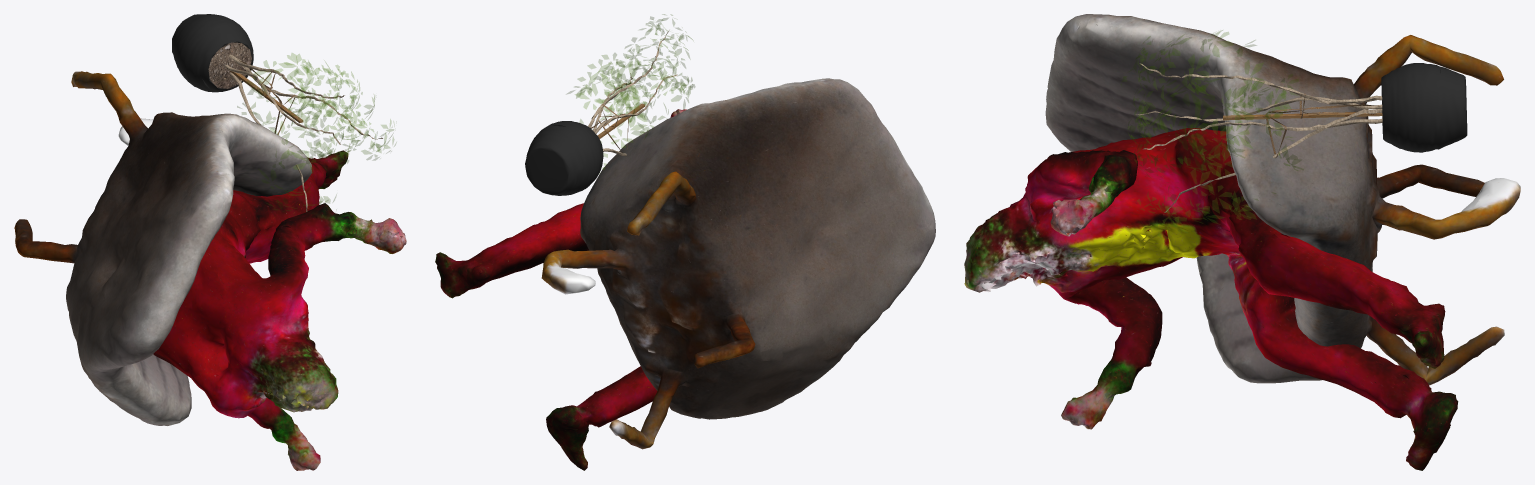
Rendered from chair_after.gltf.
3 views of the same model, side by side, from view 1: azimuth 30°, elevation 25°; view 2: azimuth 150°, elevation 25°; view 3: azimuth 270°, elevation 25° (orthographic). The views are drawn at different scales.
Parts seen in each view (by area): view 1: pose0, pose2, plant, Vase, Erde, Stiel4; view 2: pose0, pose2, Vase, plant; view 3: pose0, pose2, plant, Vase, Stiel3, Stiel2, Stange, Stiel1, Stiel4.
Boxes of the visible parts, left/top/right/bottom form: pose0: left=14, top=71, right=312, bottom=425; pose2: left=153, top=150, right=406, bottom=470; plant: left=237, top=53, right=396, bottom=210; Vase: left=172, top=14, right=253, bottom=92; Erde: left=208, top=42, right=251, bottom=88; Stiel4: left=225, top=65, right=340, bottom=144; pose0: left=541, top=78, right=935, bottom=449; pose2: left=435, top=109, right=686, bottom=470; Vase: left=525, top=121, right=603, bottom=195; plant: left=567, top=14, right=694, bottom=173; pose0: left=1045, top=14, right=1520, bottom=385; pose2: left=964, top=128, right=1458, bottom=470; plant: left=1121, top=30, right=1303, bottom=239; Vase: left=1381, top=63, right=1467, bottom=152; Stiel3: left=1140, top=63, right=1382, bottom=104; Stiel2: left=1142, top=109, right=1382, bottom=149; Stange: left=1223, top=112, right=1382, bottom=120; Stiel1: left=1164, top=118, right=1382, bottom=212; Stiel4: left=1135, top=97, right=1382, bottom=121.
Size of the model in its own units: 0.9322 by 0.9174 by 1.03.
8 materials, 7 textured.
